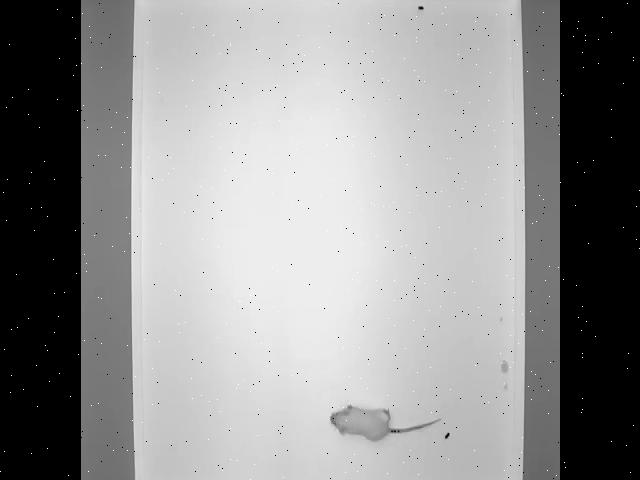Tikus: (326, 401, 444, 446)
